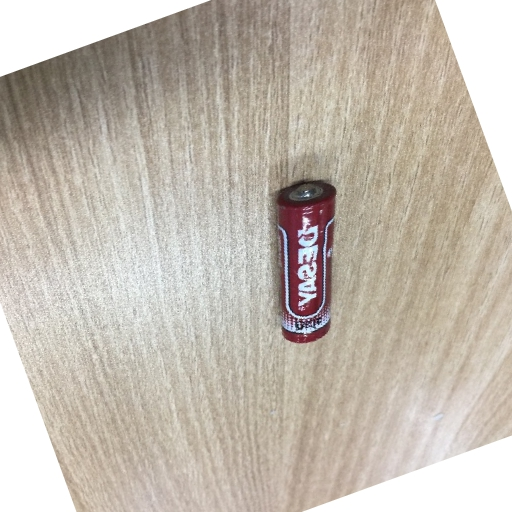Battery_0: (263, 163, 344, 358)
